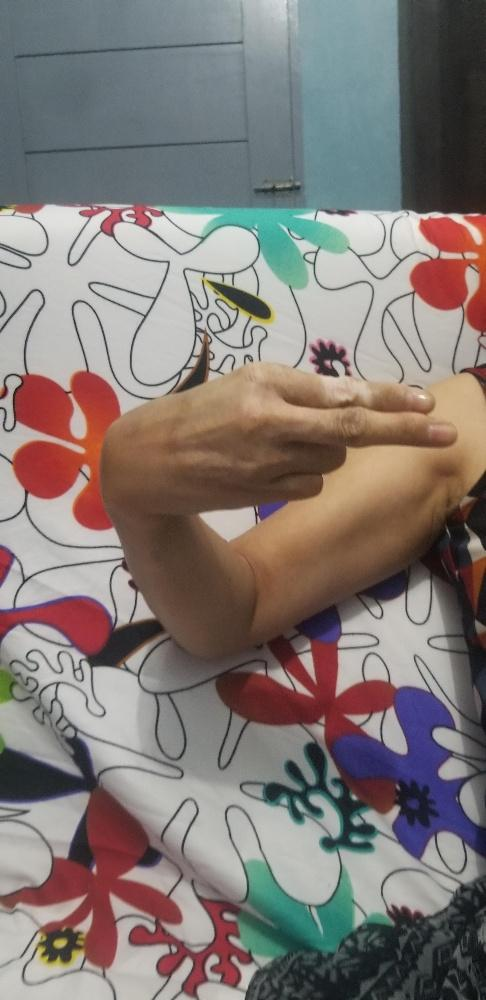h: (96, 358, 459, 518)
